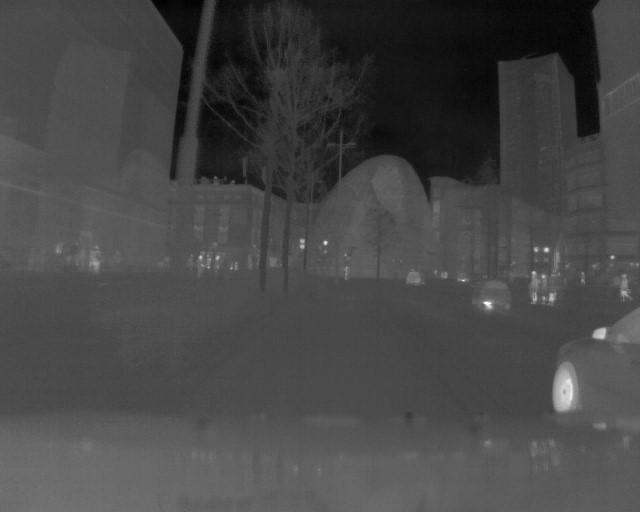car: (546, 309, 638, 424), (473, 277, 513, 310), (405, 270, 428, 286)
person: (87, 243, 103, 276), (526, 270, 538, 303), (616, 272, 628, 304), (548, 271, 558, 308), (341, 263, 352, 283)
